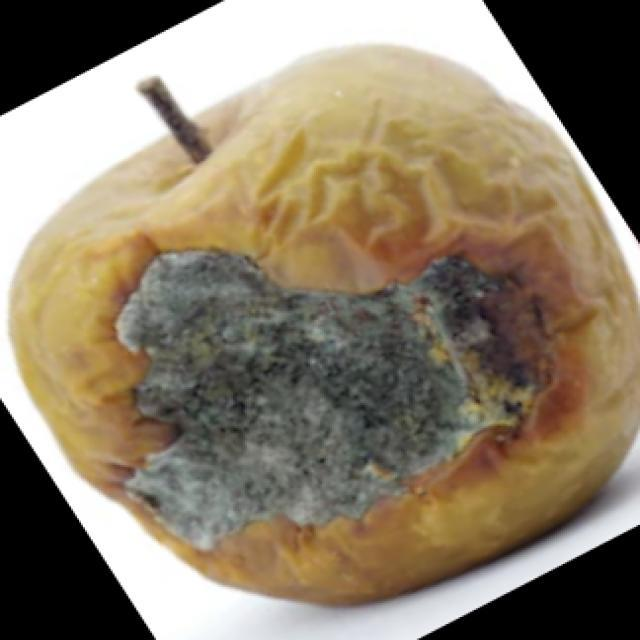Rotten: (33, 48, 637, 582)
